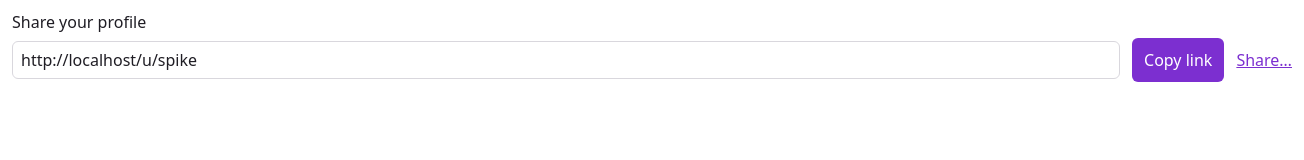
Test: ShareProfileLink › ignores a cancelled share but reports a failed one
Step 1. Click the button "Share…" → x=1264, y=60, box [1236,48,1292,72]
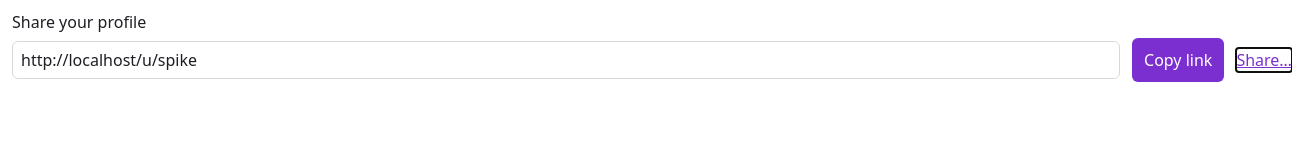
Step 2. Click the button "Share…" → x=1264, y=60, box [1236,48,1292,72]
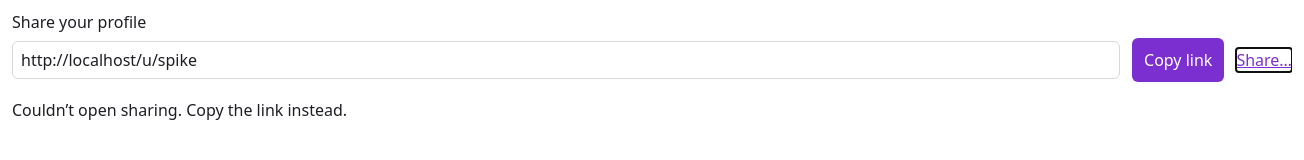
Expected: the message shows "Copy the link instead", [12,99,347,121]
